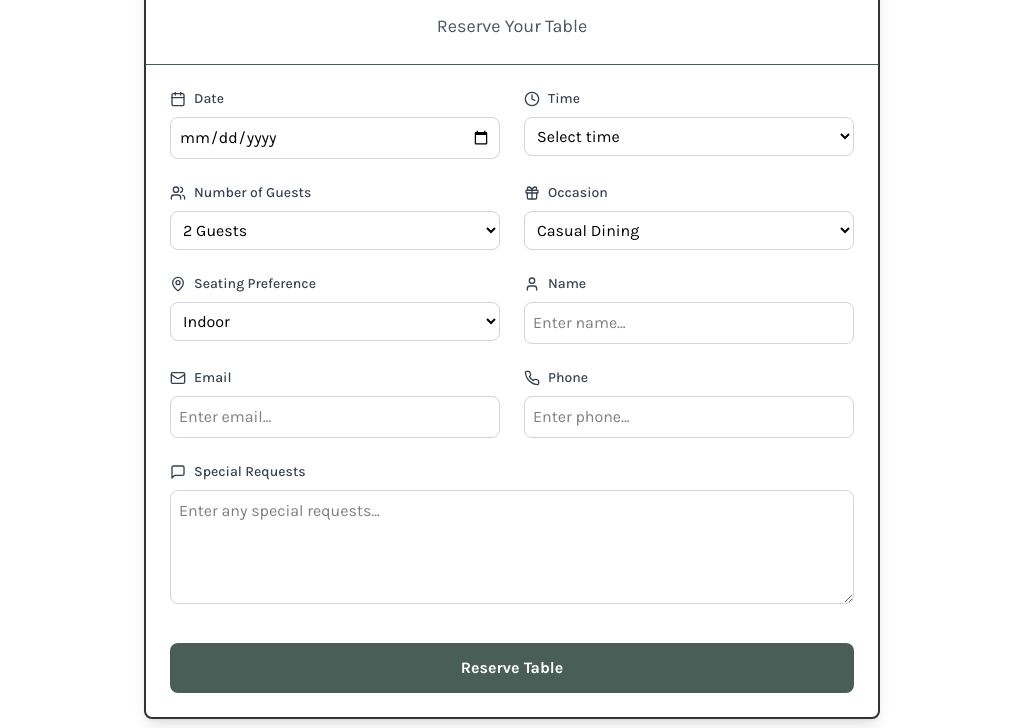
Scenario: BookingForm › should show validation errors for required fields
This screenshot has width=1024, height=728.
(page scrolled)
Note: Submit form without filling required fields
Click the button "Reserve Table": (512, 668) [170,643,854,693]
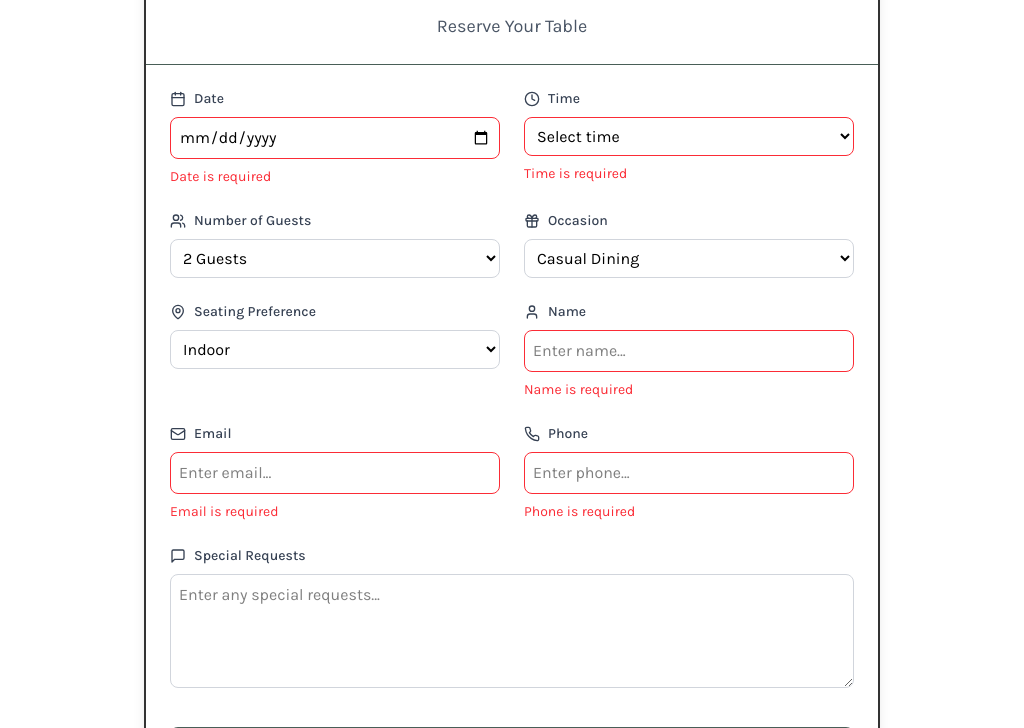
Now the text "Date is required" is shown, box [170,168,271,185]
Now the text "Time is required" is shown, box [524,165,627,182]
Now the text "Name is required" is shown, box [524,381,633,398]
